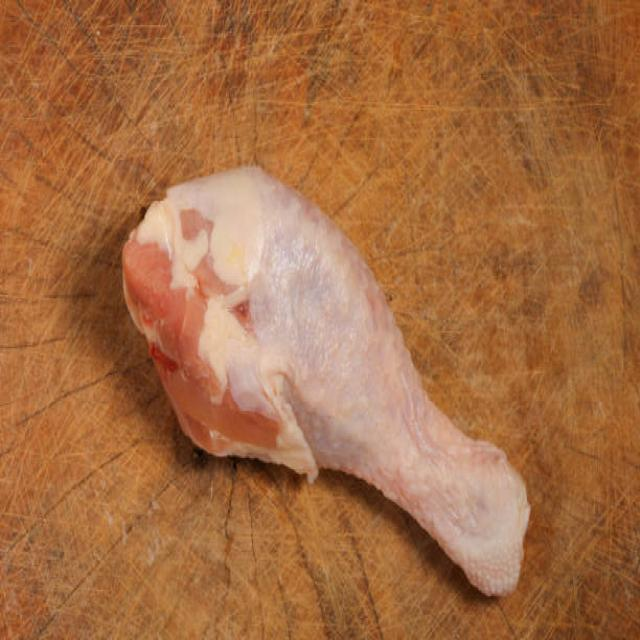Chicken Thigh: (115, 160, 537, 596)
